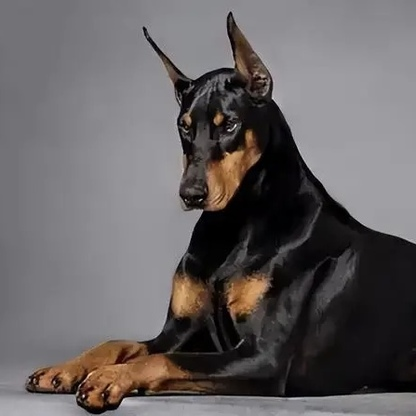doberman: (34, 10, 416, 406)
